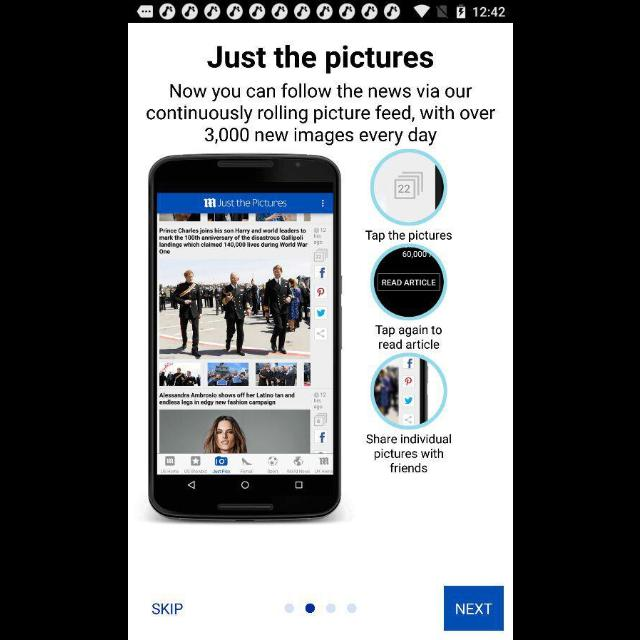image: (148, 153, 342, 522), (369, 150, 446, 227), (369, 243, 446, 320), (369, 354, 446, 431)
pageindicator: (283, 603, 357, 613)
text: (146, 84, 494, 146), (206, 46, 434, 74), (365, 434, 451, 474), (373, 324, 442, 350), (364, 231, 452, 243), (151, 602, 183, 616)
textbutton: (443, 586, 502, 630)
uppertaskbar: (128, 1, 512, 23)
